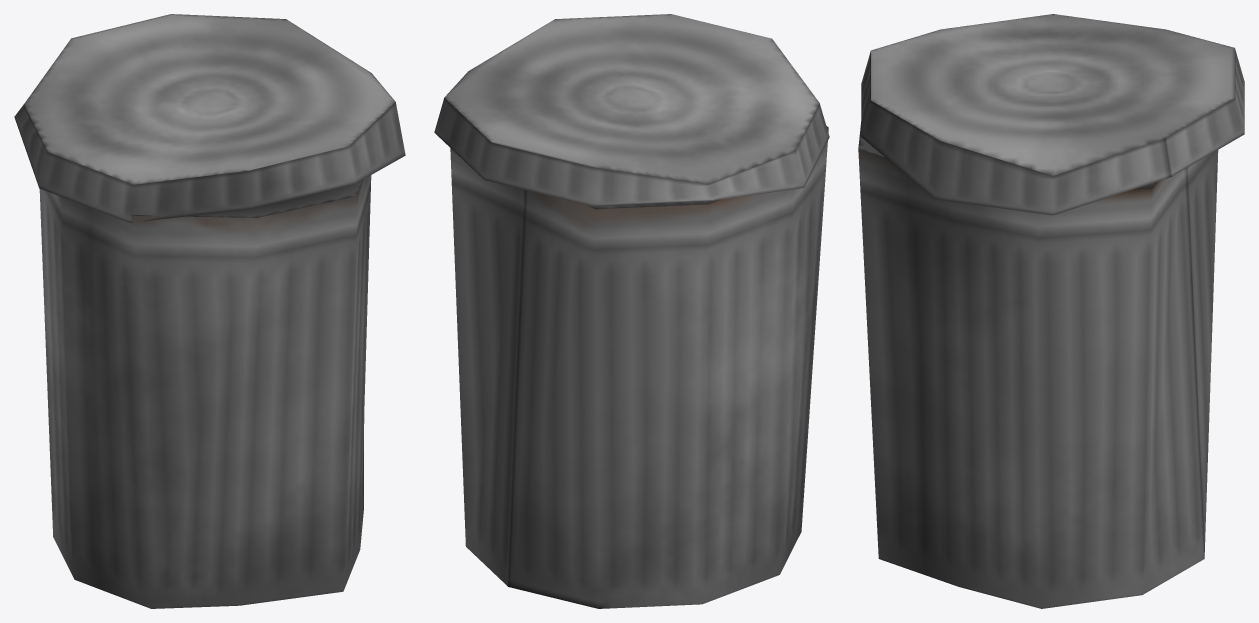
The model's file is Trash_can.FBX.
3 renders of one model, left to right at view 1: azimuth 30°, elevation 25°; view 2: azimuth 150°, elevation 25°; view 3: azimuth 270°, elevation 25°, orthographic. The views are drawn at different scales.
Visible parts, largest first — view 1: Cylinder049, Cylinder050; view 2: Cylinder049, Cylinder050; view 3: Cylinder049, Cylinder050.
Part boxes in pixels (x1,y1,x2,y2): Cylinder049: [39, 175, 371, 608]; Cylinder050: [14, 14, 405, 222]; Cylinder049: [450, 126, 828, 608]; Cylinder050: [434, 14, 829, 205]; Cylinder049: [858, 121, 1218, 608]; Cylinder050: [861, 14, 1244, 215].
Size of the model in its own units: 74.66 by 94.16 by 71.4.
